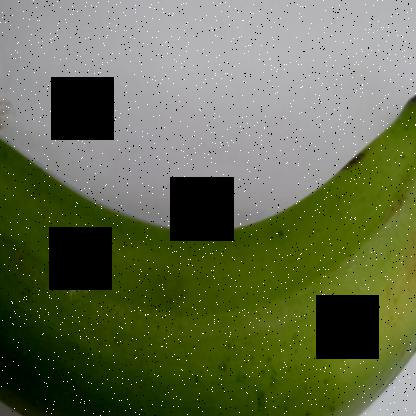freshunripe: (1, 87, 415, 415)
